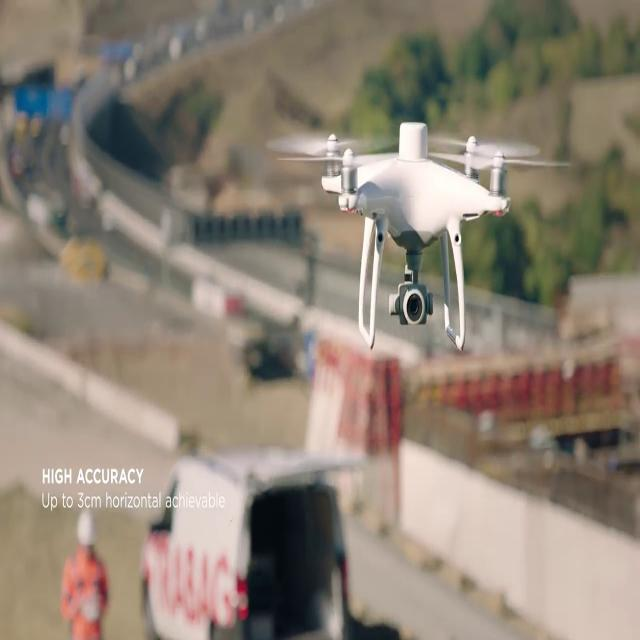drone: (263, 116, 575, 354)
